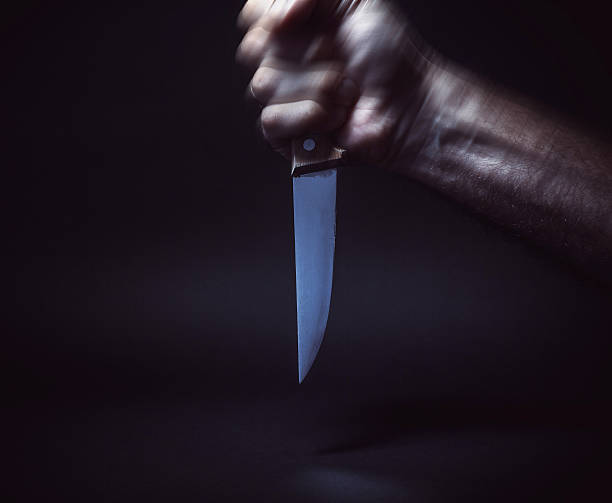knife: (288, 161, 341, 386)
